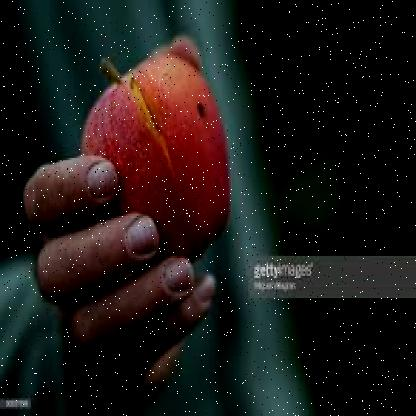damaged_apple: (78, 53, 235, 267)
